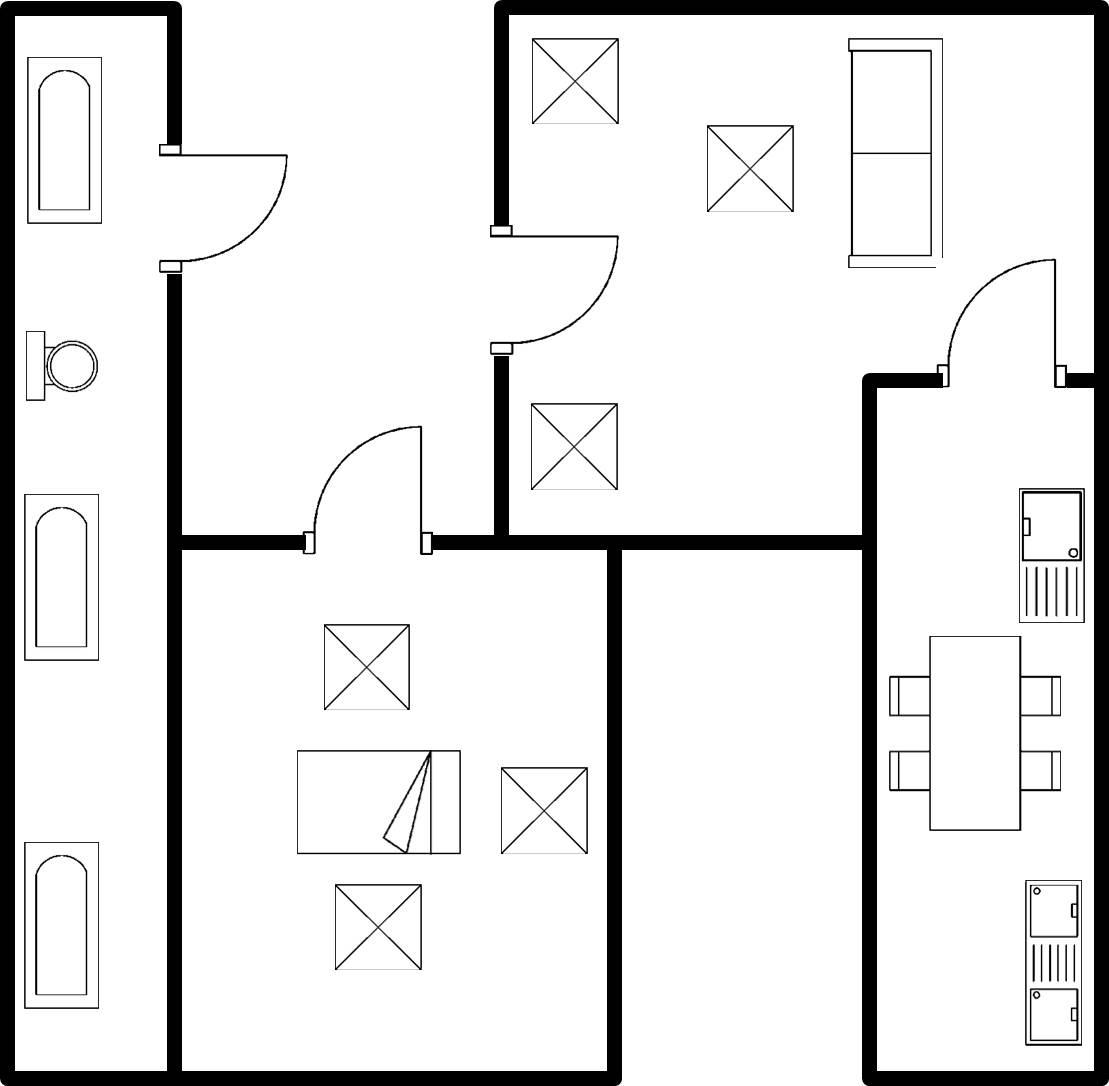sink: (1012, 869, 1091, 1055)
